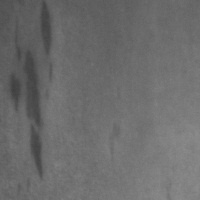inclusion: (5, 3, 52, 185), (38, 1, 59, 85), (103, 115, 126, 162)
